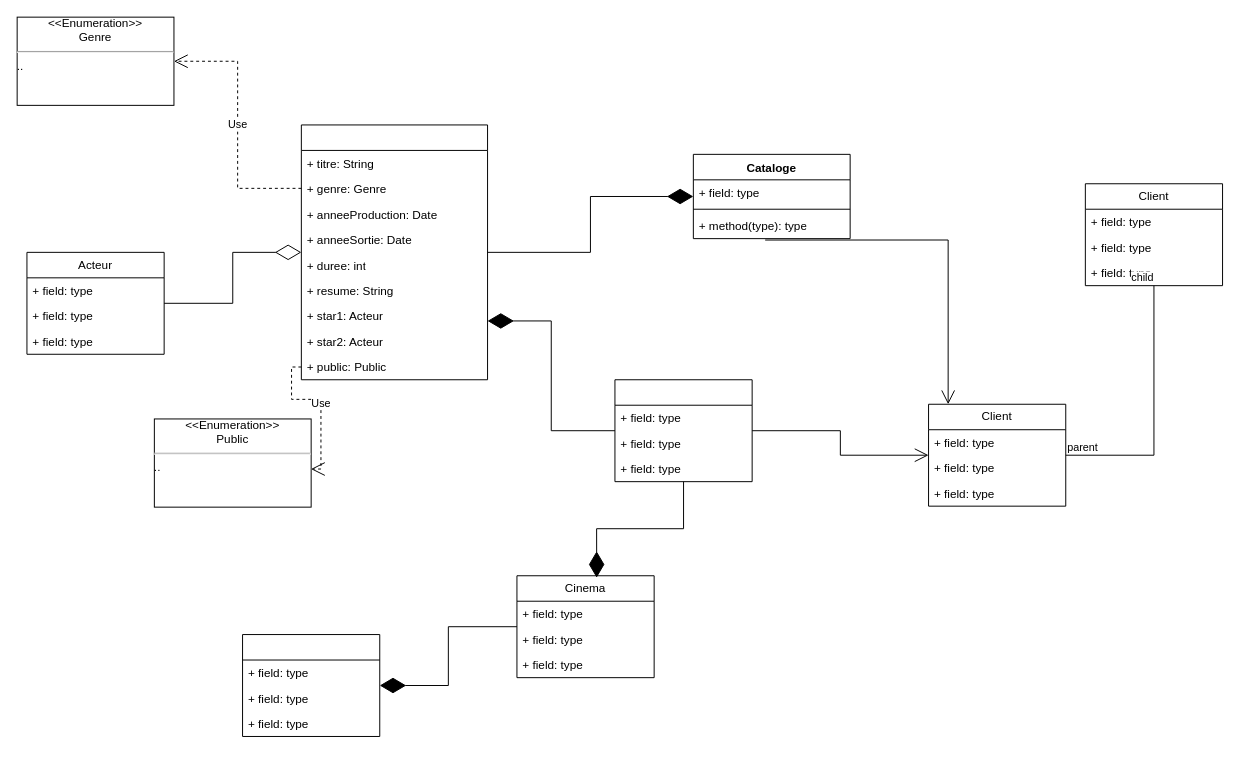
This 1240x757 diagram has some shape labels left out. The shapes that lost their labels are listed below. From the top down, each one's box as (x1, y1, x2, y2) in pixels, then its label:
(300, 124, 488, 380): Film
(614, 379, 752, 482): Ticket
(242, 634, 380, 736): Salle
